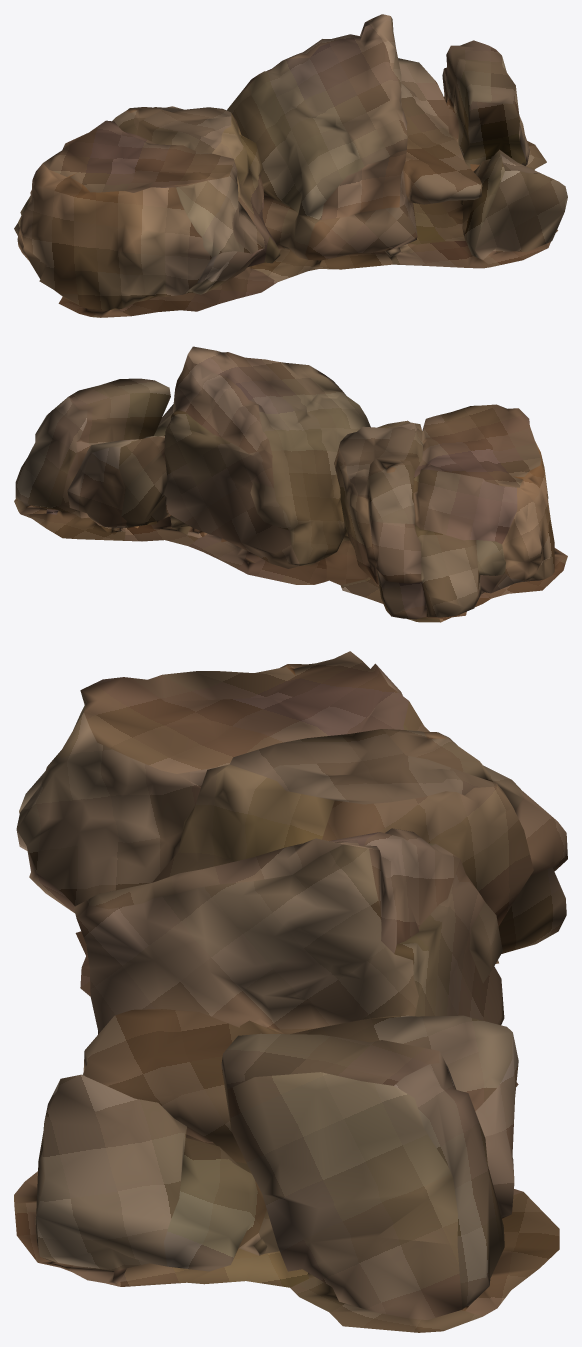
Rendered from namaqualand_boulder_02_lod1.glb.
The picture shows the model from 3 angles, top to bottom: view 1: azimuth 30°, elevation 25°; view 2: azimuth 150°, elevation 25°; view 3: azimuth 270°, elevation 25°; orthographic projection. The views are drawn at different scales.
Visible parts, largest first — view 1: boulder_02; view 2: boulder_02; view 3: boulder_02.
Boxes of the visible parts, x1=… form: boulder_02: x1=14, y1=14, x2=567, y2=317; boulder_02: x1=14, y1=346, x2=567, y2=622; boulder_02: x1=14, y1=651, x2=567, y2=1332.
Size of the model in its own units: 2.52 by 0.8787 by 1.23.
1 material, 1 textured.
